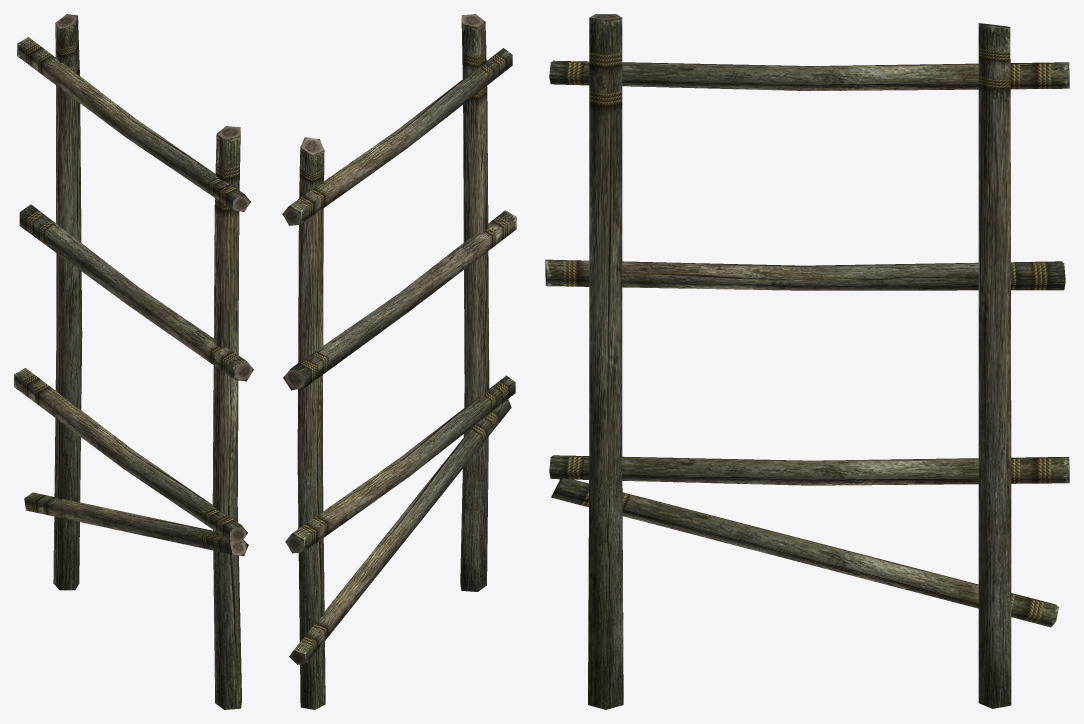
File: thing_hake_05.glb
3 renders of one model, left to right at view 1: azimuth 30°, elevation 25°; view 2: azimuth 150°, elevation 25°; view 3: azimuth 270°, elevation 25°, orthographic. The views are drawn at different scales.
Visible parts, largest first — view 1: thing_hake_05; view 2: thing_hake_05; view 3: thing_hake_05.
Boxes of the visible parts, <box> form: thing_hake_05: <box>14,14,253,709</box>; thing_hake_05: <box>282,14,516,709</box>; thing_hake_05: <box>545,14,1069,709</box>.
Bounding box in the file's own units: 0.499 × 7.6 × 5.24.
1 material, 1 textured.
